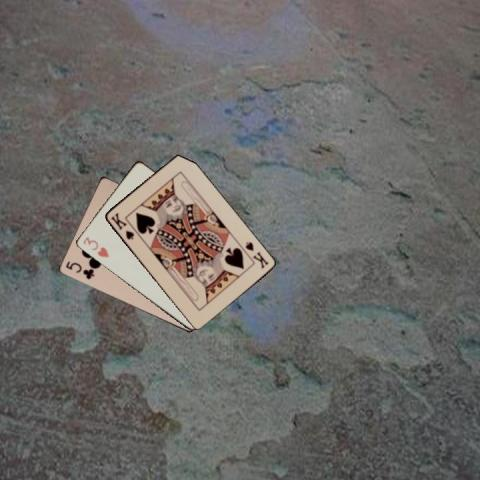3h: (80, 234, 110, 259)
5c: (63, 258, 95, 281)
Ks: (107, 209, 136, 241), (242, 239, 269, 270)
